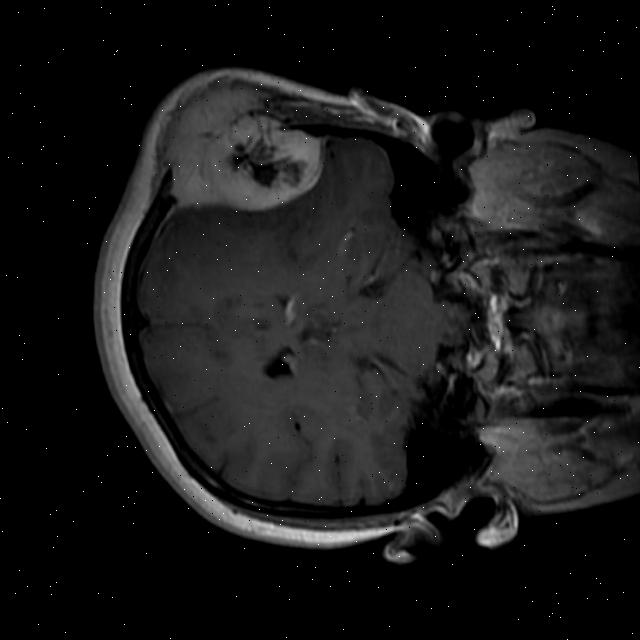Meningioma: (154, 68, 329, 216)
